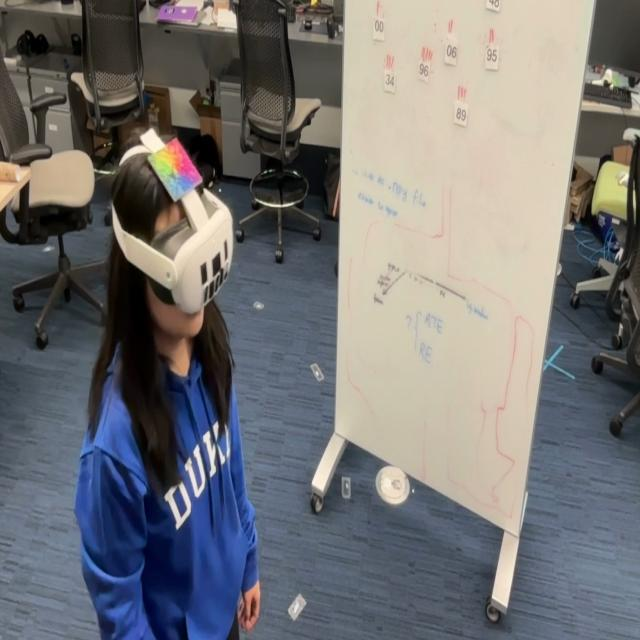Headset: (110, 152, 234, 315)
Marker: (146, 134, 204, 204)
